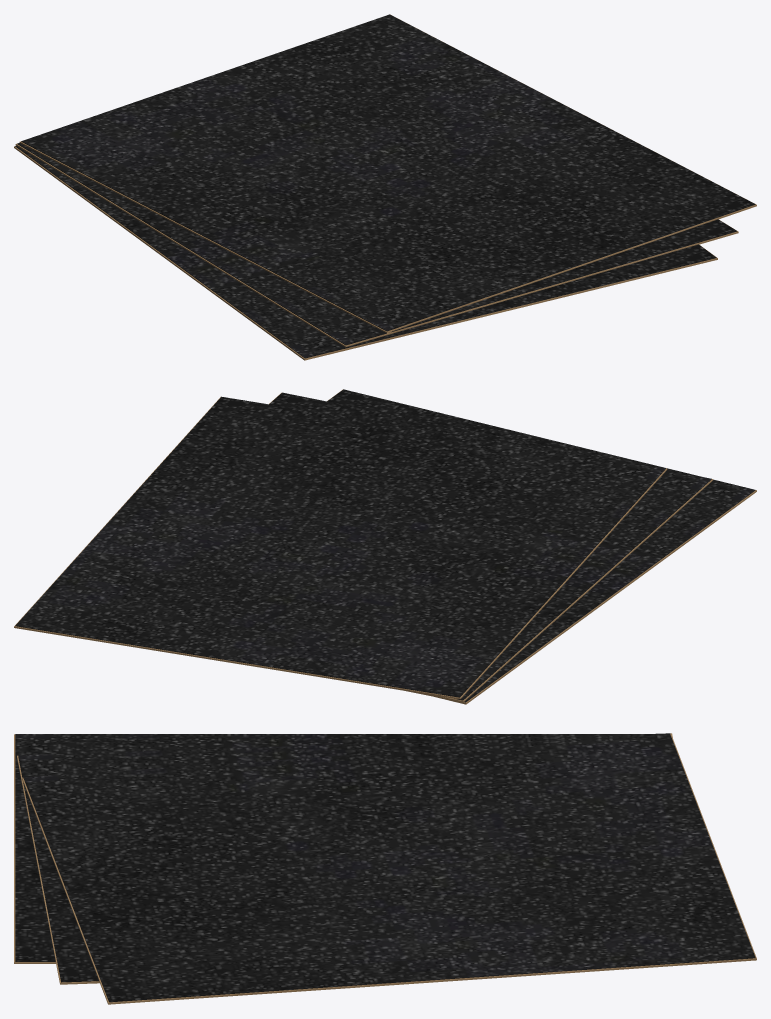
The model's file is HID-INS-003.glb.
3 views of the same model, one above another, from view 1: azimuth 30°, elevation 25°; view 2: azimuth 150°, elevation 25°; view 3: azimuth 270°, elevation 25° (orthographic). The views are drawn at different scales.
Parts seen in each view (by area): view 1: HID-INS-003_abrasivo2, HID-INS-003_abrasivo0, HID-INS-003_abrasivo1, HID-INS-003_folha0, HID-INS-003_folha2, HID-INS-003_folha1; view 2: HID-INS-003_abrasivo2, HID-INS-003_abrasivo0, HID-INS-003_abrasivo1, HID-INS-003_folha2, HID-INS-003_folha0, HID-INS-003_folha1; view 3: HID-INS-003_abrasivo2, HID-INS-003_abrasivo1, HID-INS-003_abrasivo0, HID-INS-003_folha2, HID-INS-003_folha1, HID-INS-003_folha0.
Boxes of the visible parts, box(x1,y1,x2,y2) form: HID-INS-003_abrasivo2: box(21, 14, 755, 331); HID-INS-003_abrasivo0: box(15, 145, 716, 358); HID-INS-003_abrasivo1: box(17, 143, 737, 345); HID-INS-003_folha0: box(14, 146, 717, 360); HID-INS-003_folha2: box(19, 14, 756, 333); HID-INS-003_folha1: box(15, 143, 738, 347); HID-INS-003_abrasivo2: box(15, 396, 665, 697); HID-INS-003_abrasivo0: box(327, 389, 755, 702); HID-INS-003_abrasivo1: box(269, 392, 711, 700); HID-INS-003_folha2: box(14, 397, 667, 699); HID-INS-003_folha0: box(327, 389, 756, 704); HID-INS-003_folha1: box(269, 392, 713, 702); HID-INS-003_abrasivo2: box(23, 733, 755, 1002); HID-INS-003_abrasivo1: box(18, 733, 670, 982); HID-INS-003_abrasivo0: box(15, 734, 645, 961); HID-INS-003_folha2: box(22, 733, 756, 1004); HID-INS-003_folha1: box(17, 733, 672, 984); HID-INS-003_folha0: box(14, 734, 55, 963).
Bounding box in the file's own units: 0.2748 × 0.00291 × 0.3165.
Materials: 2 (2 with a texture image).
